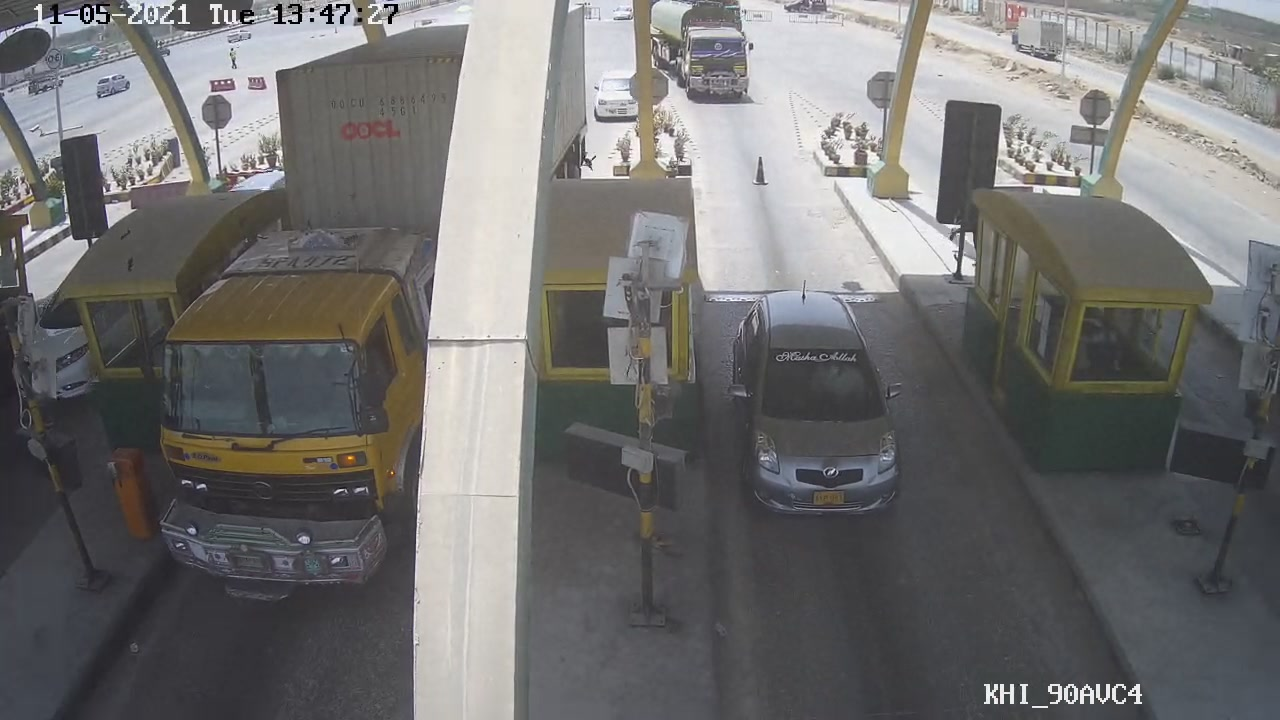F1: (724, 281, 918, 519)
